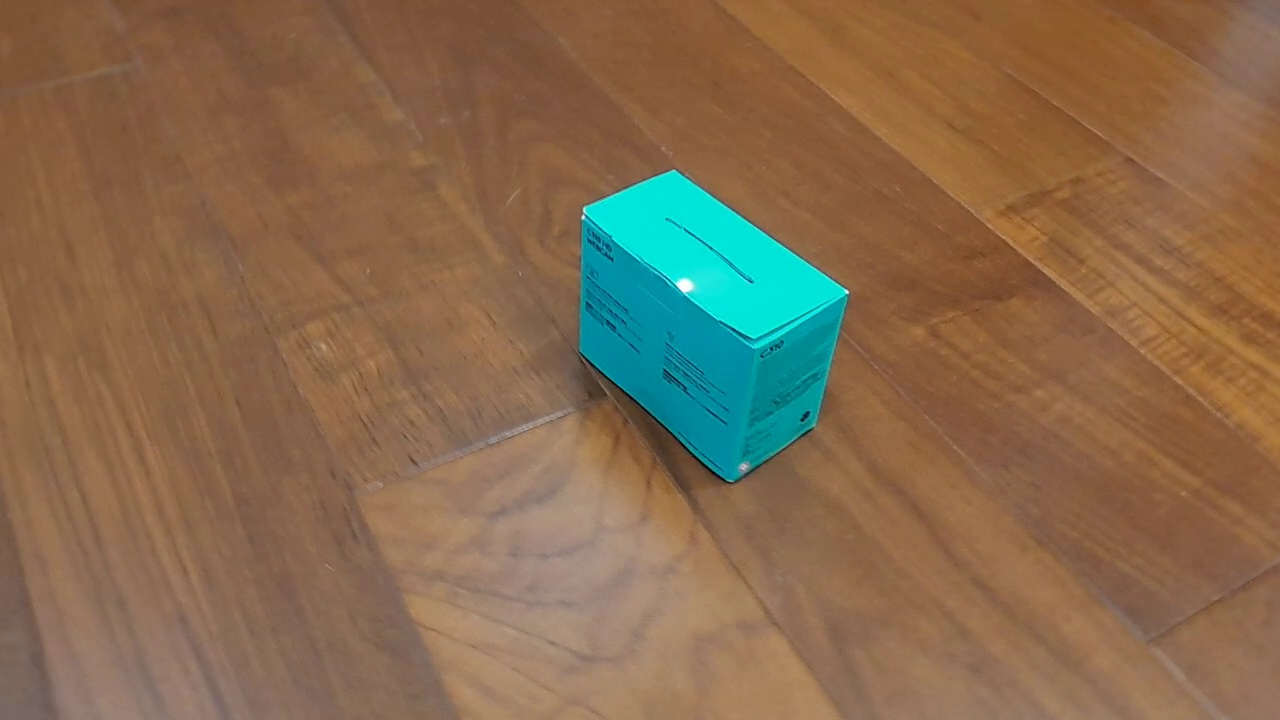webcam: (577, 167, 851, 486)
